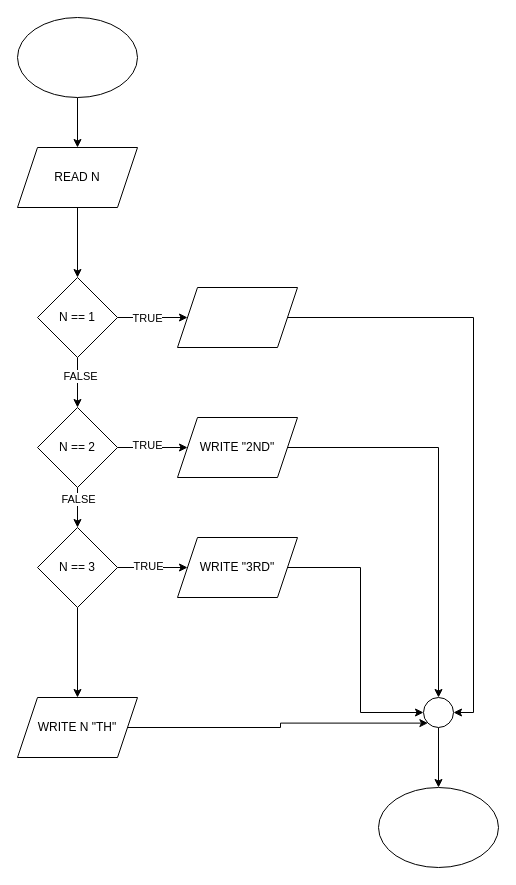
The diagram is 516 pixels wide and 885 high, and some of its shapes have lost their labels. Here are the shapes that lost their labels. From the top down, the centre of each, then its label:
(77,57): START
(237,317): WRITE "1ST"
(438,827): END
